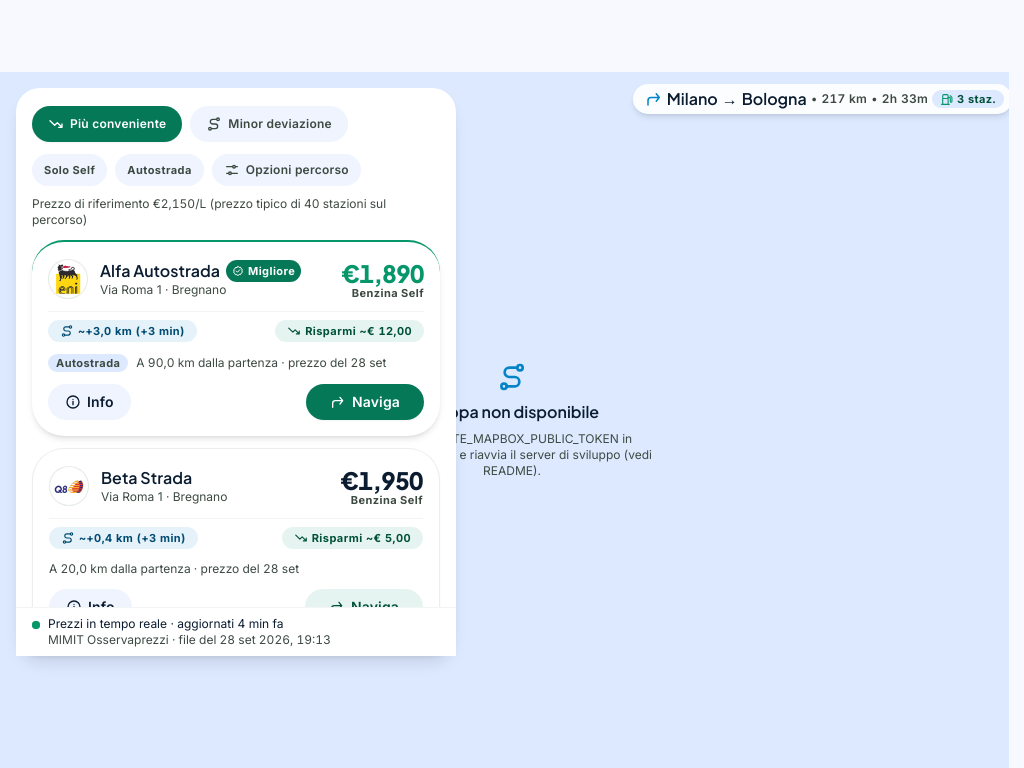
Test: ResultsScreen — «Opzioni percorso» › le descrizioni del foglio seguono la regola editoriale (prima frase = effetto; l'ultima solo per ciò che non entra nel calcolo), senza «verifiche» né «Default»
The image size is (1024, 768).
Click the button with test id "route-options-chip" at (286, 170), box [212,154,361,186]
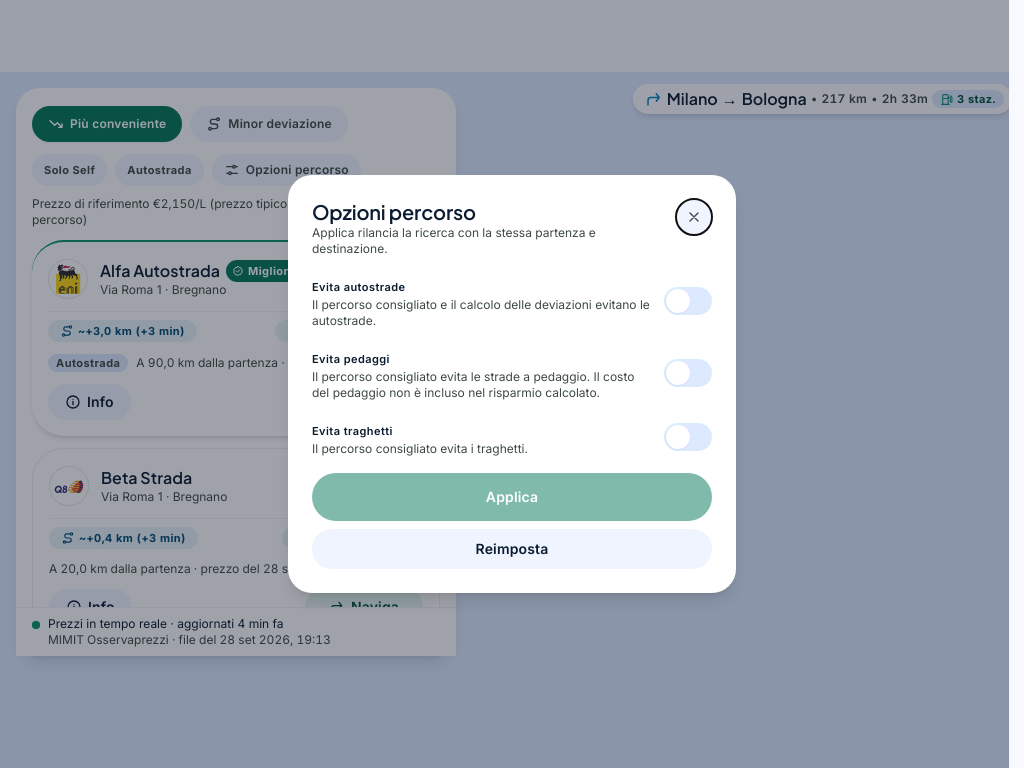
expect the text "Il percorso consigliato e il calcolo delle deviazioni evitano le autostrade." is shown: met, box [312,297,652,329]
expect the text "Il percorso consigliato evita le strade a pedaggio. Il costo del pedaggio non è incluso nel risparmio calcolato." is shown: met, box [312,369,634,400]
expect the text "Il percorso consigliato evita i traghetti." is shown: met, box [312,441,528,457]
